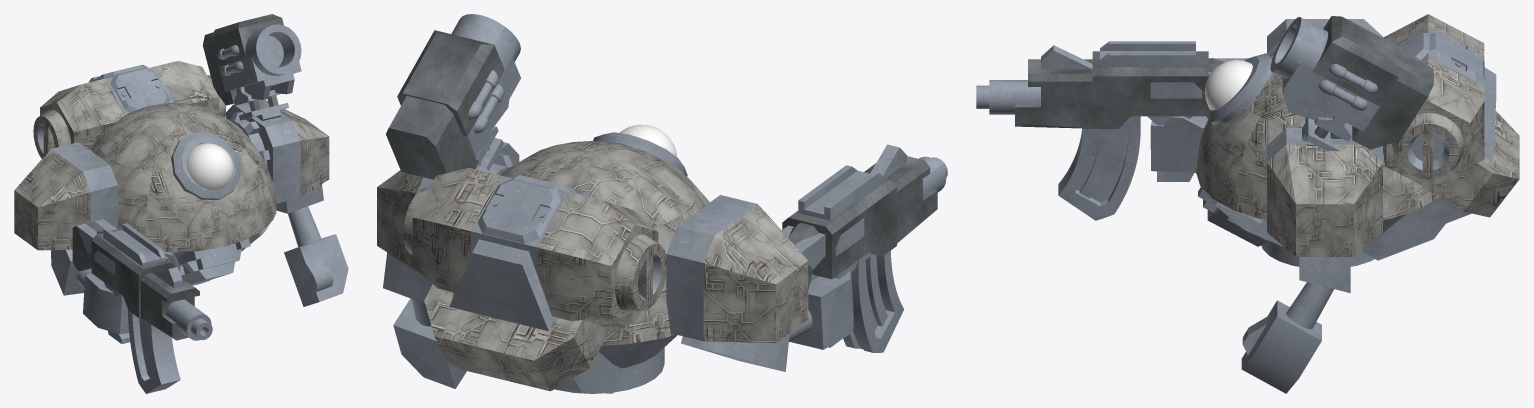
The model's file is Trooper.fbx.
3 renders of one model, left to right at view 1: azimuth 30°, elevation 25°; view 2: azimuth 150°, elevation 25°; view 3: azimuth 270°, elevation 25°, orthographic. The views are drawn at different scales.
Visible parts, largest first — view 1: mergedBlocks; view 2: mergedBlocks; view 3: mergedBlocks.
Boxes of the visible parts, x1,y1,x2,y2 form: mergedBlocks: (14,14,348,393); mergedBlocks: (377,14,947,393); mergedBlocks: (976,14,1519,393).
Size of the model in its own units: 8.13 by 7.45 by 10.52.
6 materials, 5 textured.
